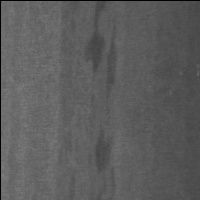inclusion: (84, 1, 119, 124), (92, 110, 122, 200)
